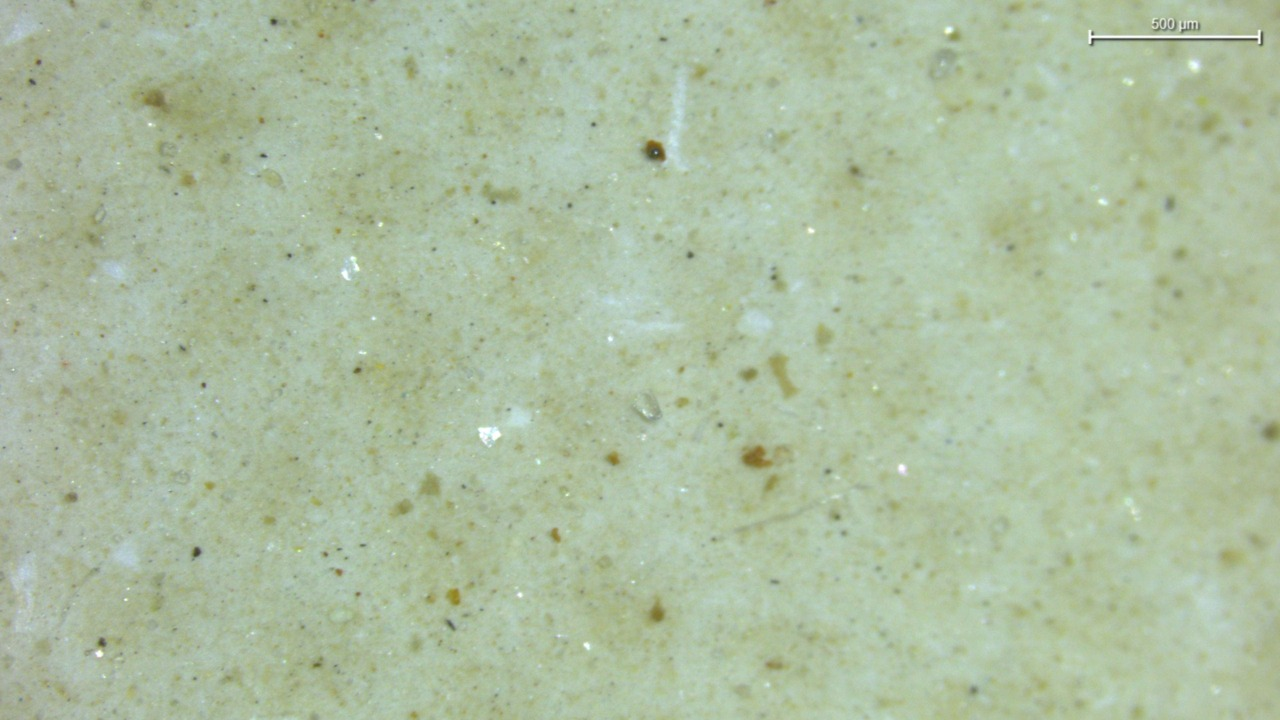microplastic_fragment: (633, 391, 662, 421)
